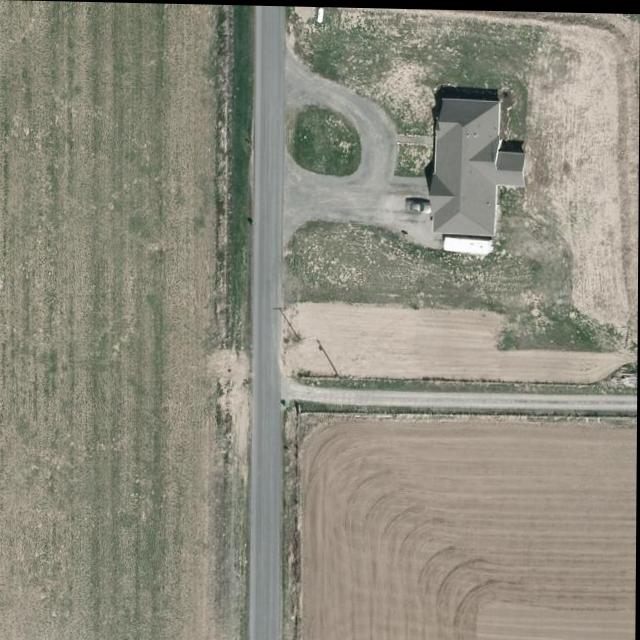vehicle: (403, 198, 436, 213)
